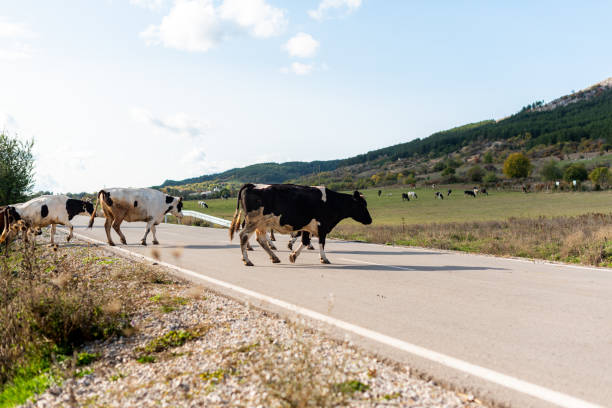inek: (242, 175, 377, 269), (98, 181, 184, 241), (1, 197, 93, 250)
